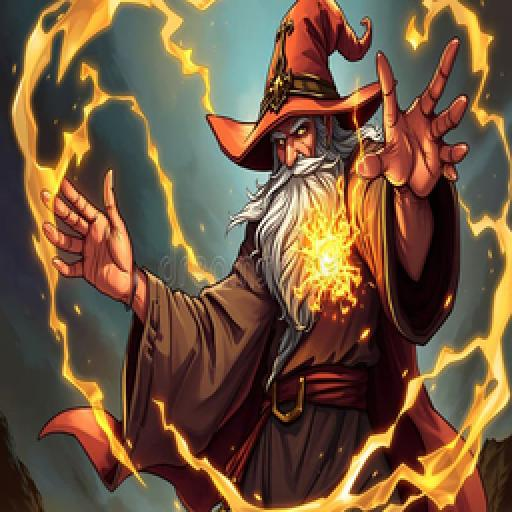wizards: (40, 2, 472, 510)
